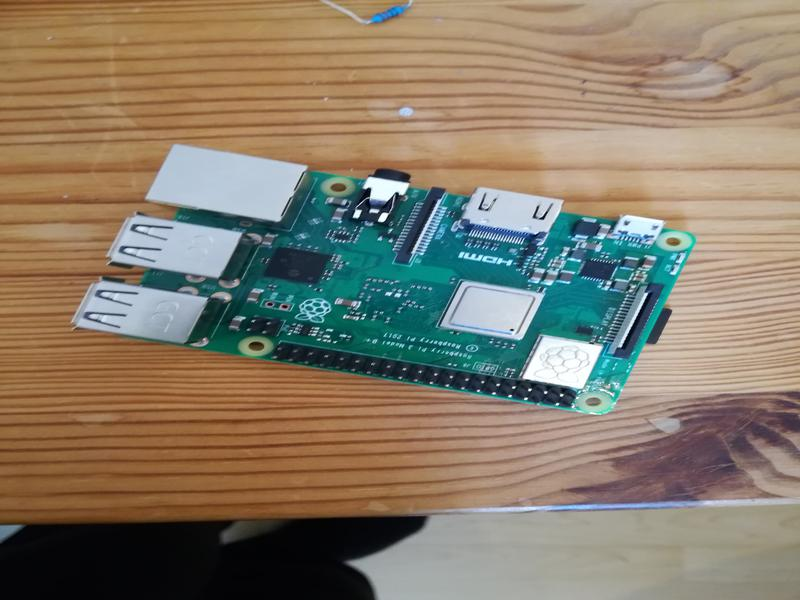Raspberry_Pi_3: (63, 140, 695, 426)
